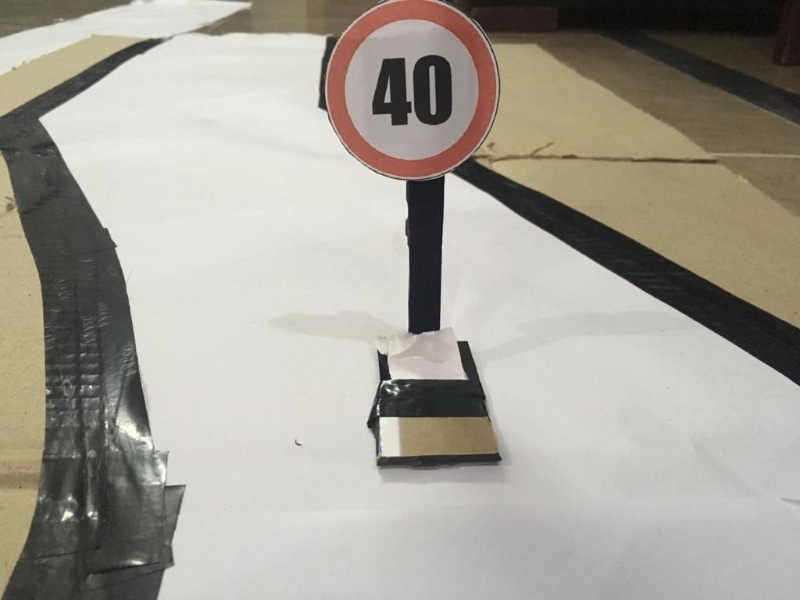Speed Limit 40: (325, 1, 501, 185)
